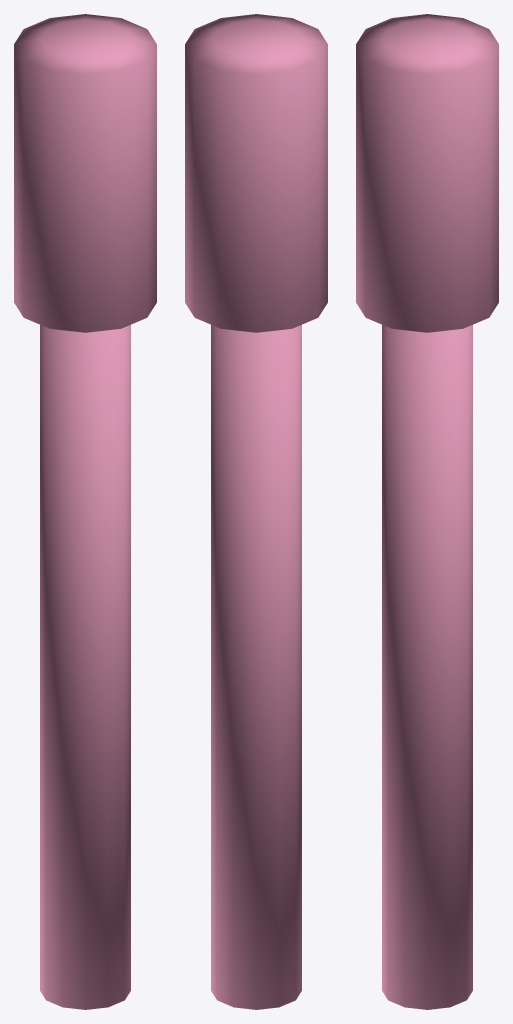
Rendered from tent_pole.obj.
The picture shows the model from 3 angles, left to right: view 1: azimuth 30°, elevation 25°; view 2: azimuth 150°, elevation 25°; view 3: azimuth 270°, elevation 25°; orthographic projection.
Parts seen in each view (by area): view 1: Cylinder32; view 2: Cylinder32; view 3: Cylinder32.
Boxes of the visible parts, bbox=[...] form: Cylinder32: bbox=[14, 14, 156, 1009]; Cylinder32: bbox=[185, 14, 327, 1009]; Cylinder32: bbox=[356, 14, 498, 1009].
Bounding box in the file's own units: 1.97 × 14.52 × 1.97.
